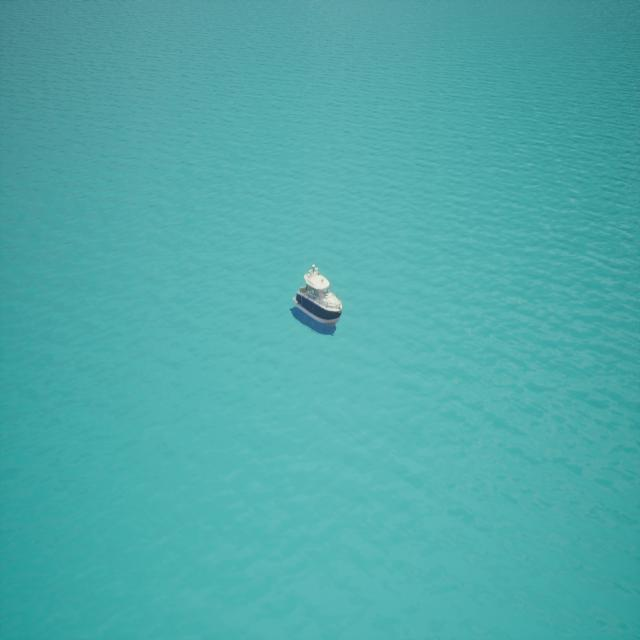ship: (292, 261, 343, 329)
